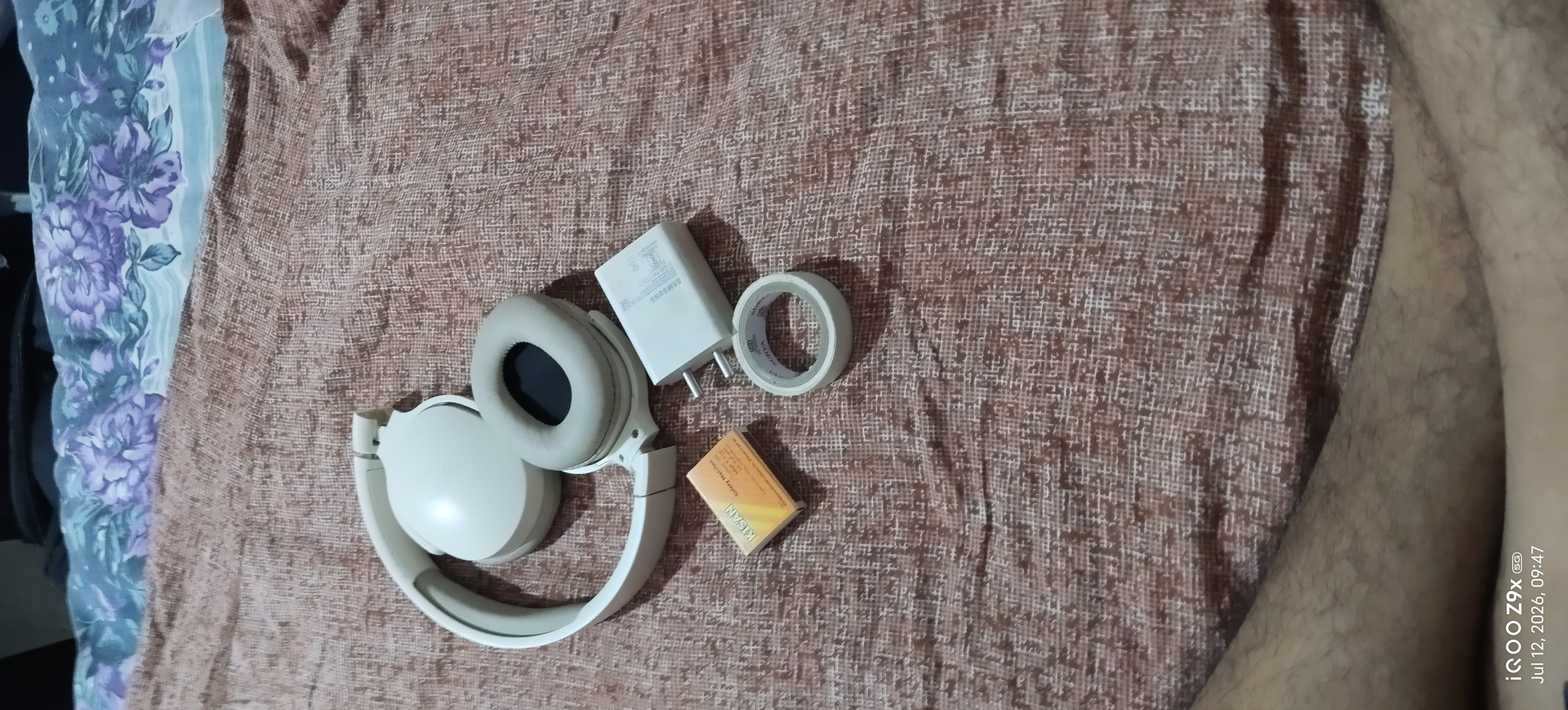charger: (589, 216, 754, 400)
matchbox: (680, 426, 814, 558)
tape_roll: (724, 266, 858, 405)
